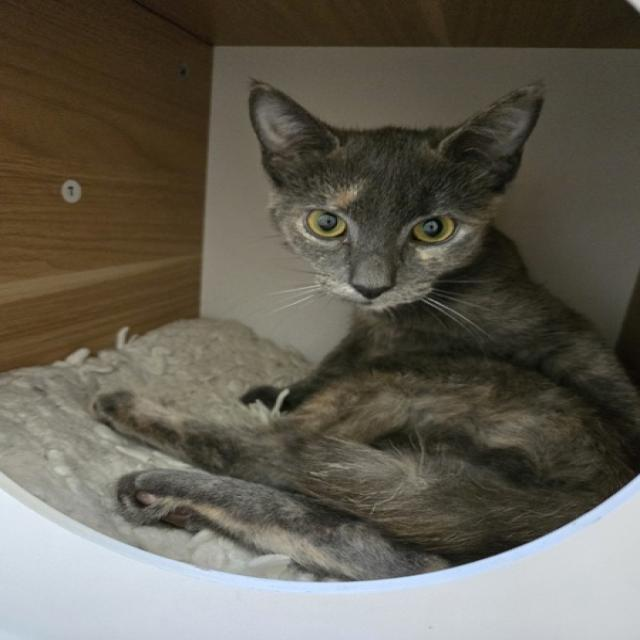manx_cat: (240, 66, 548, 328)
